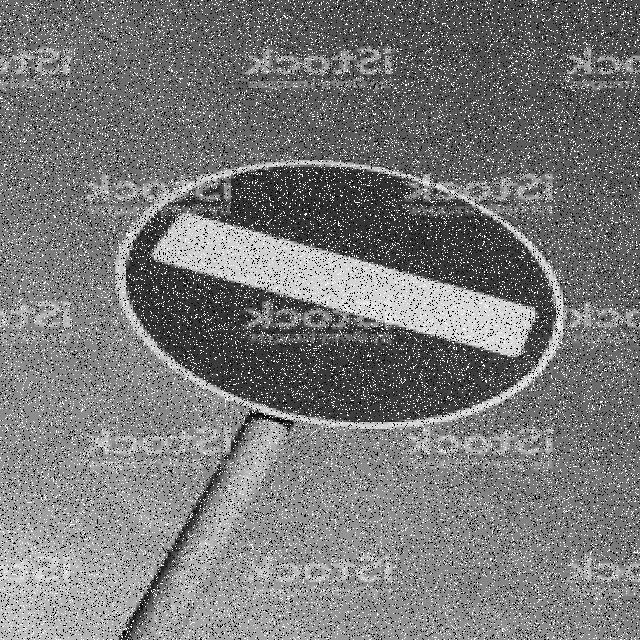no entry: (129, 165, 556, 418)
